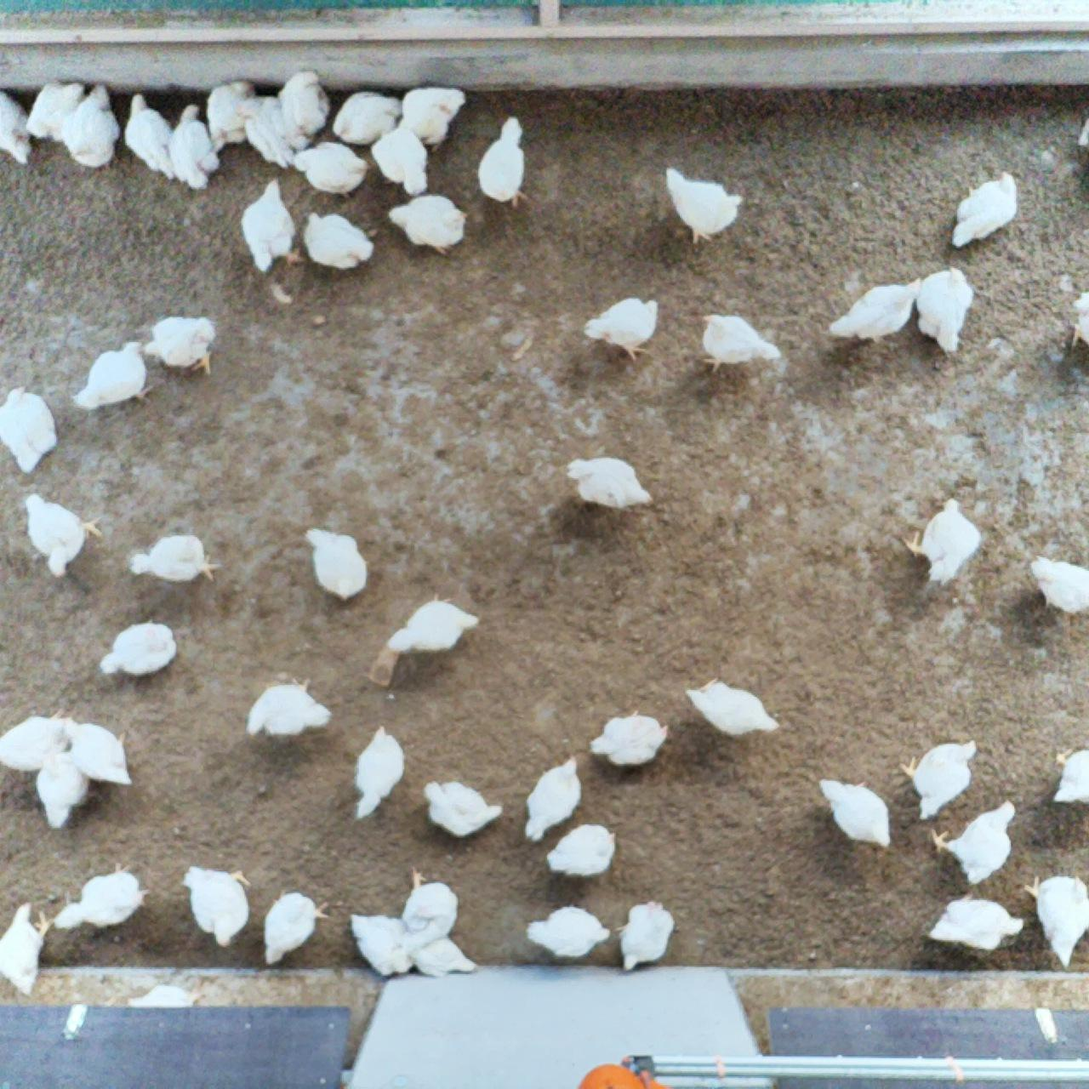chicken: (925, 797, 1018, 888), (901, 496, 985, 588), (50, 861, 152, 936), (896, 737, 981, 822), (1019, 869, 1089, 971), (22, 489, 103, 577), (828, 277, 926, 346), (387, 590, 480, 660), (925, 889, 1025, 954), (74, 336, 153, 418), (663, 165, 746, 243), (54, 710, 135, 786), (678, 677, 780, 737), (952, 168, 1024, 252), (239, 175, 301, 271), (264, 886, 335, 969), (247, 675, 332, 744), (179, 863, 247, 949), (820, 774, 893, 853), (563, 451, 654, 513), (520, 756, 584, 844), (913, 265, 975, 354), (400, 865, 460, 956), (420, 775, 505, 839), (303, 521, 371, 601), (698, 309, 780, 375), (610, 895, 676, 976), (386, 192, 468, 257), (100, 618, 182, 683), (351, 723, 406, 819), (0, 896, 51, 999), (522, 903, 614, 960), (582, 295, 661, 361), (61, 81, 118, 172), (166, 99, 222, 191), (128, 531, 220, 587), (0, 705, 73, 775), (0, 385, 57, 474), (586, 710, 670, 770), (402, 921, 482, 984), (476, 115, 528, 209), (236, 92, 298, 168), (304, 208, 377, 272), (123, 91, 175, 180), (292, 138, 370, 197), (34, 746, 88, 831), (145, 313, 217, 376), (371, 125, 433, 198), (394, 83, 472, 141), (346, 908, 413, 974), (205, 76, 259, 157), (277, 68, 331, 149), (547, 820, 622, 878), (332, 88, 406, 145), (1029, 553, 1089, 616), (24, 79, 84, 140), (0, 83, 37, 170), (1049, 742, 1089, 806), (1067, 286, 1089, 356), (1074, 101, 1089, 162)
